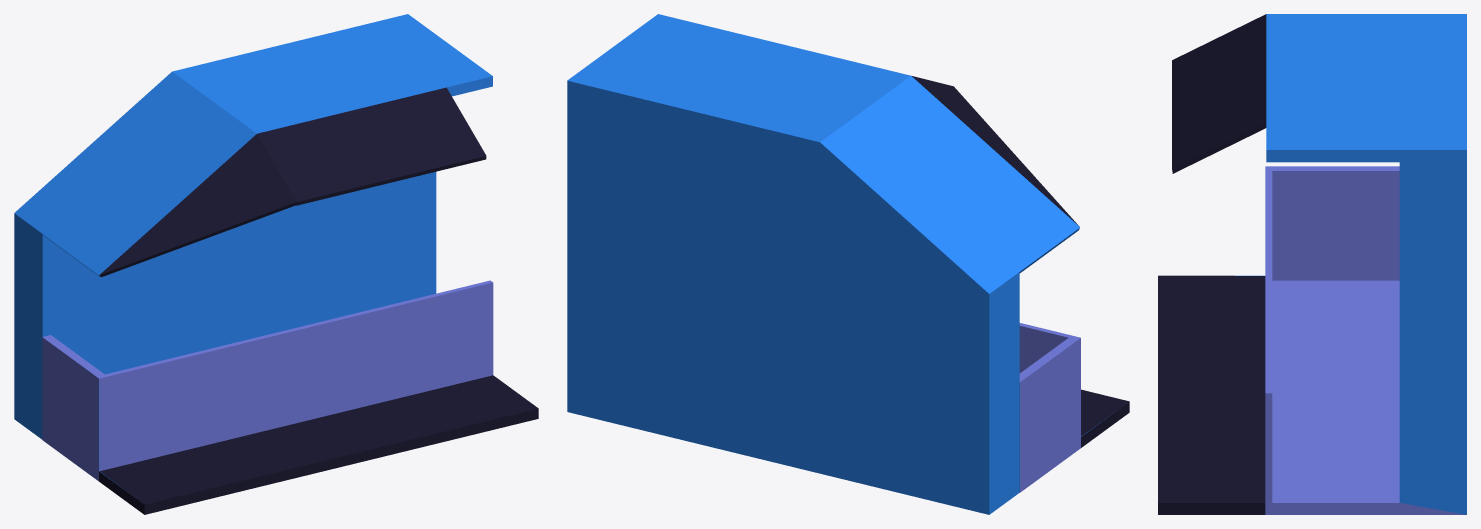
3 renders of one model, left to right at view 1: azimuth 30°, elevation 25°; view 2: azimuth 150°, elevation 25°; view 3: azimuth 270°, elevation 25°, orthographic. The views are drawn at different scales.
Parts seen in each view (by area): view 1: Mesh_0.002; view 2: Mesh_0.002; view 3: Mesh_0.002.
Boxes of the visible parts, x1=… form: Mesh_0.002: x1=14, y1=14, x2=538, y2=514; Mesh_0.002: x1=567, y1=14, x2=1129, y2=514; Mesh_0.002: x1=1158, y1=14, x2=1466, y2=514.
Size of the model in its own units: 4 by 3 by 2.3.
